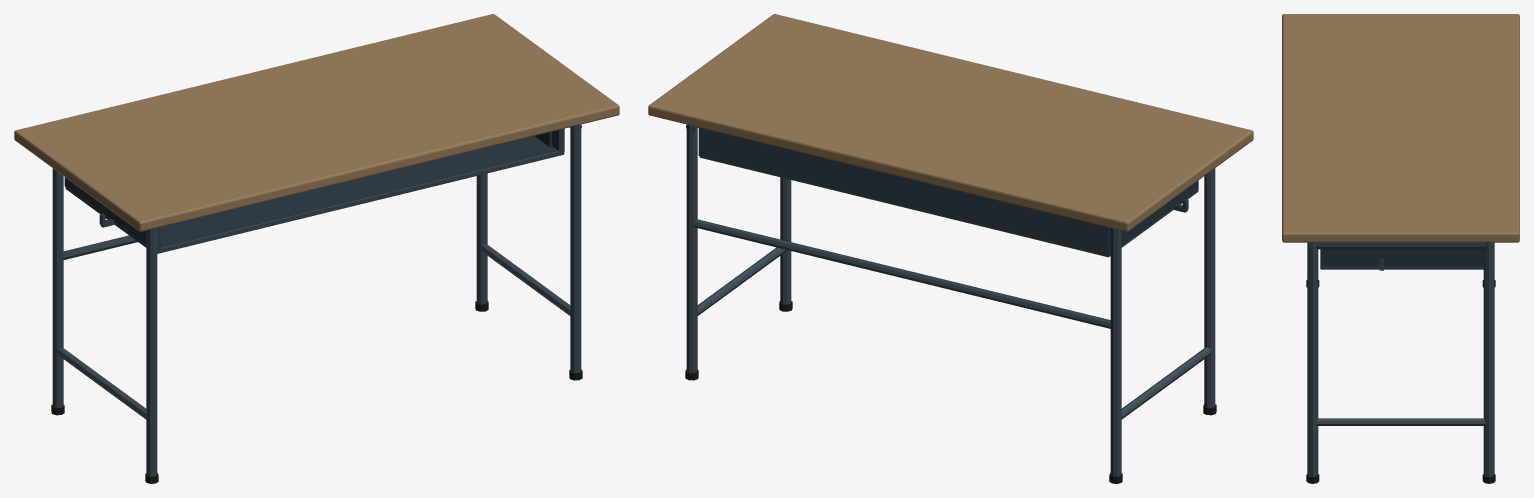
File: prop_school_desk_unit.glb
The picture shows the model from 3 angles, left to right: view 1: azimuth 30°, elevation 25°; view 2: azimuth 150°, elevation 25°; view 3: azimuth 270°, elevation 25°; orthographic projection. The views are drawn at different scales.
Parts seen in each view (by area): view 1: prop_school_desk_unit; view 2: prop_school_desk_unit; view 3: prop_school_desk_unit.
Boxes of the visible parts, x1=… form: prop_school_desk_unit: x1=14, y1=14, x2=619, y2=483; prop_school_desk_unit: x1=648, y1=14, x2=1253, y2=483; prop_school_desk_unit: x1=1282, y1=14, x2=1519, y2=483.
Size of the model in its own units: 1.36 by 0.75 by 0.62.
